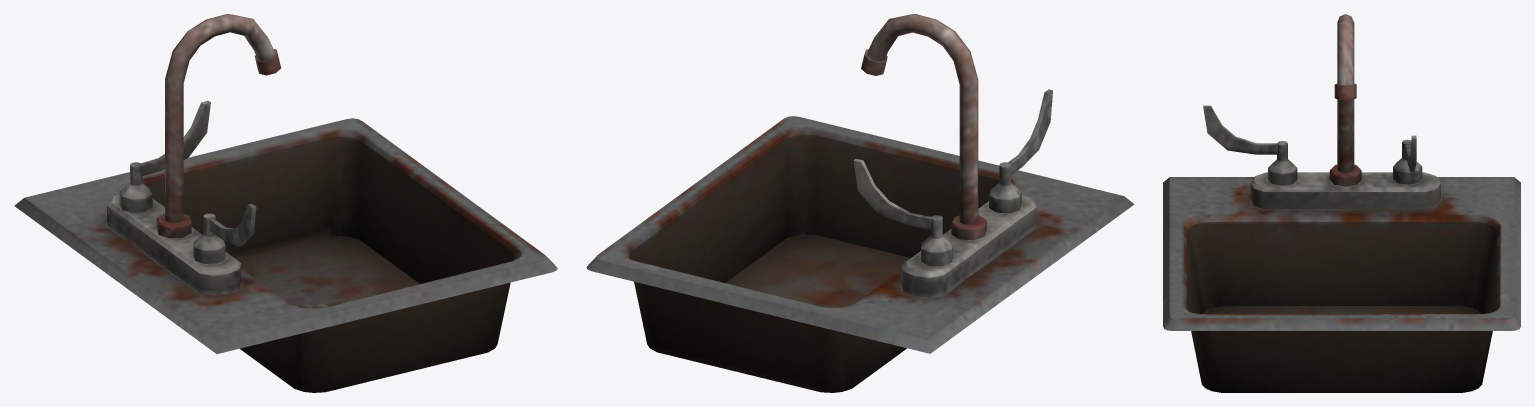
Rendered from Sink.FBX.
The picture shows the model from 3 angles, left to right: view 1: azimuth 30°, elevation 25°; view 2: azimuth 150°, elevation 25°; view 3: azimuth 270°, elevation 25°; orthographic projection. The views are drawn at different scales.
Visible parts, largest first — view 1: Sink; view 2: Sink; view 3: Sink.
Boxes of the visible parts, bbox=[...] form: Sink: bbox=[14, 14, 557, 392]; Sink: bbox=[586, 14, 1134, 392]; Sink: bbox=[1163, 14, 1520, 392].
Bounding box in the file's own units: 53.13 × 47.57 × 54.09.
